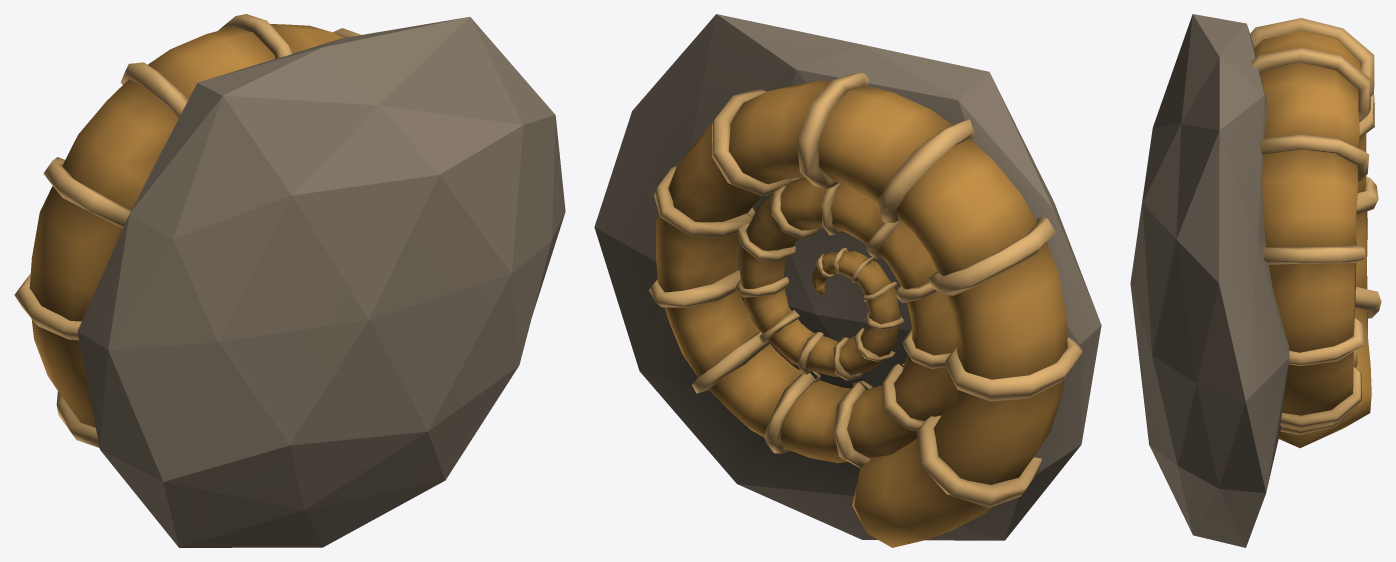
The model's file is find_ammonite.glb.
The picture shows the model from 3 angles, left to right: view 1: azimuth 30°, elevation 25°; view 2: azimuth 150°, elevation 25°; view 3: azimuth 270°, elevation 25°; orthographic projection. The views are drawn at different scales.
Parts seen in each view (by area): view 1: Ammonite; view 2: Ammonite; view 3: Ammonite.
Part boxes in pixels (x1,y1,x2,y2): Ammonite: (14, 14, 565, 547); Ammonite: (594, 14, 1101, 547); Ammonite: (1130, 14, 1381, 547).
Bounding box in the file's own units: 0.4787 × 0.4524 × 0.2164.
